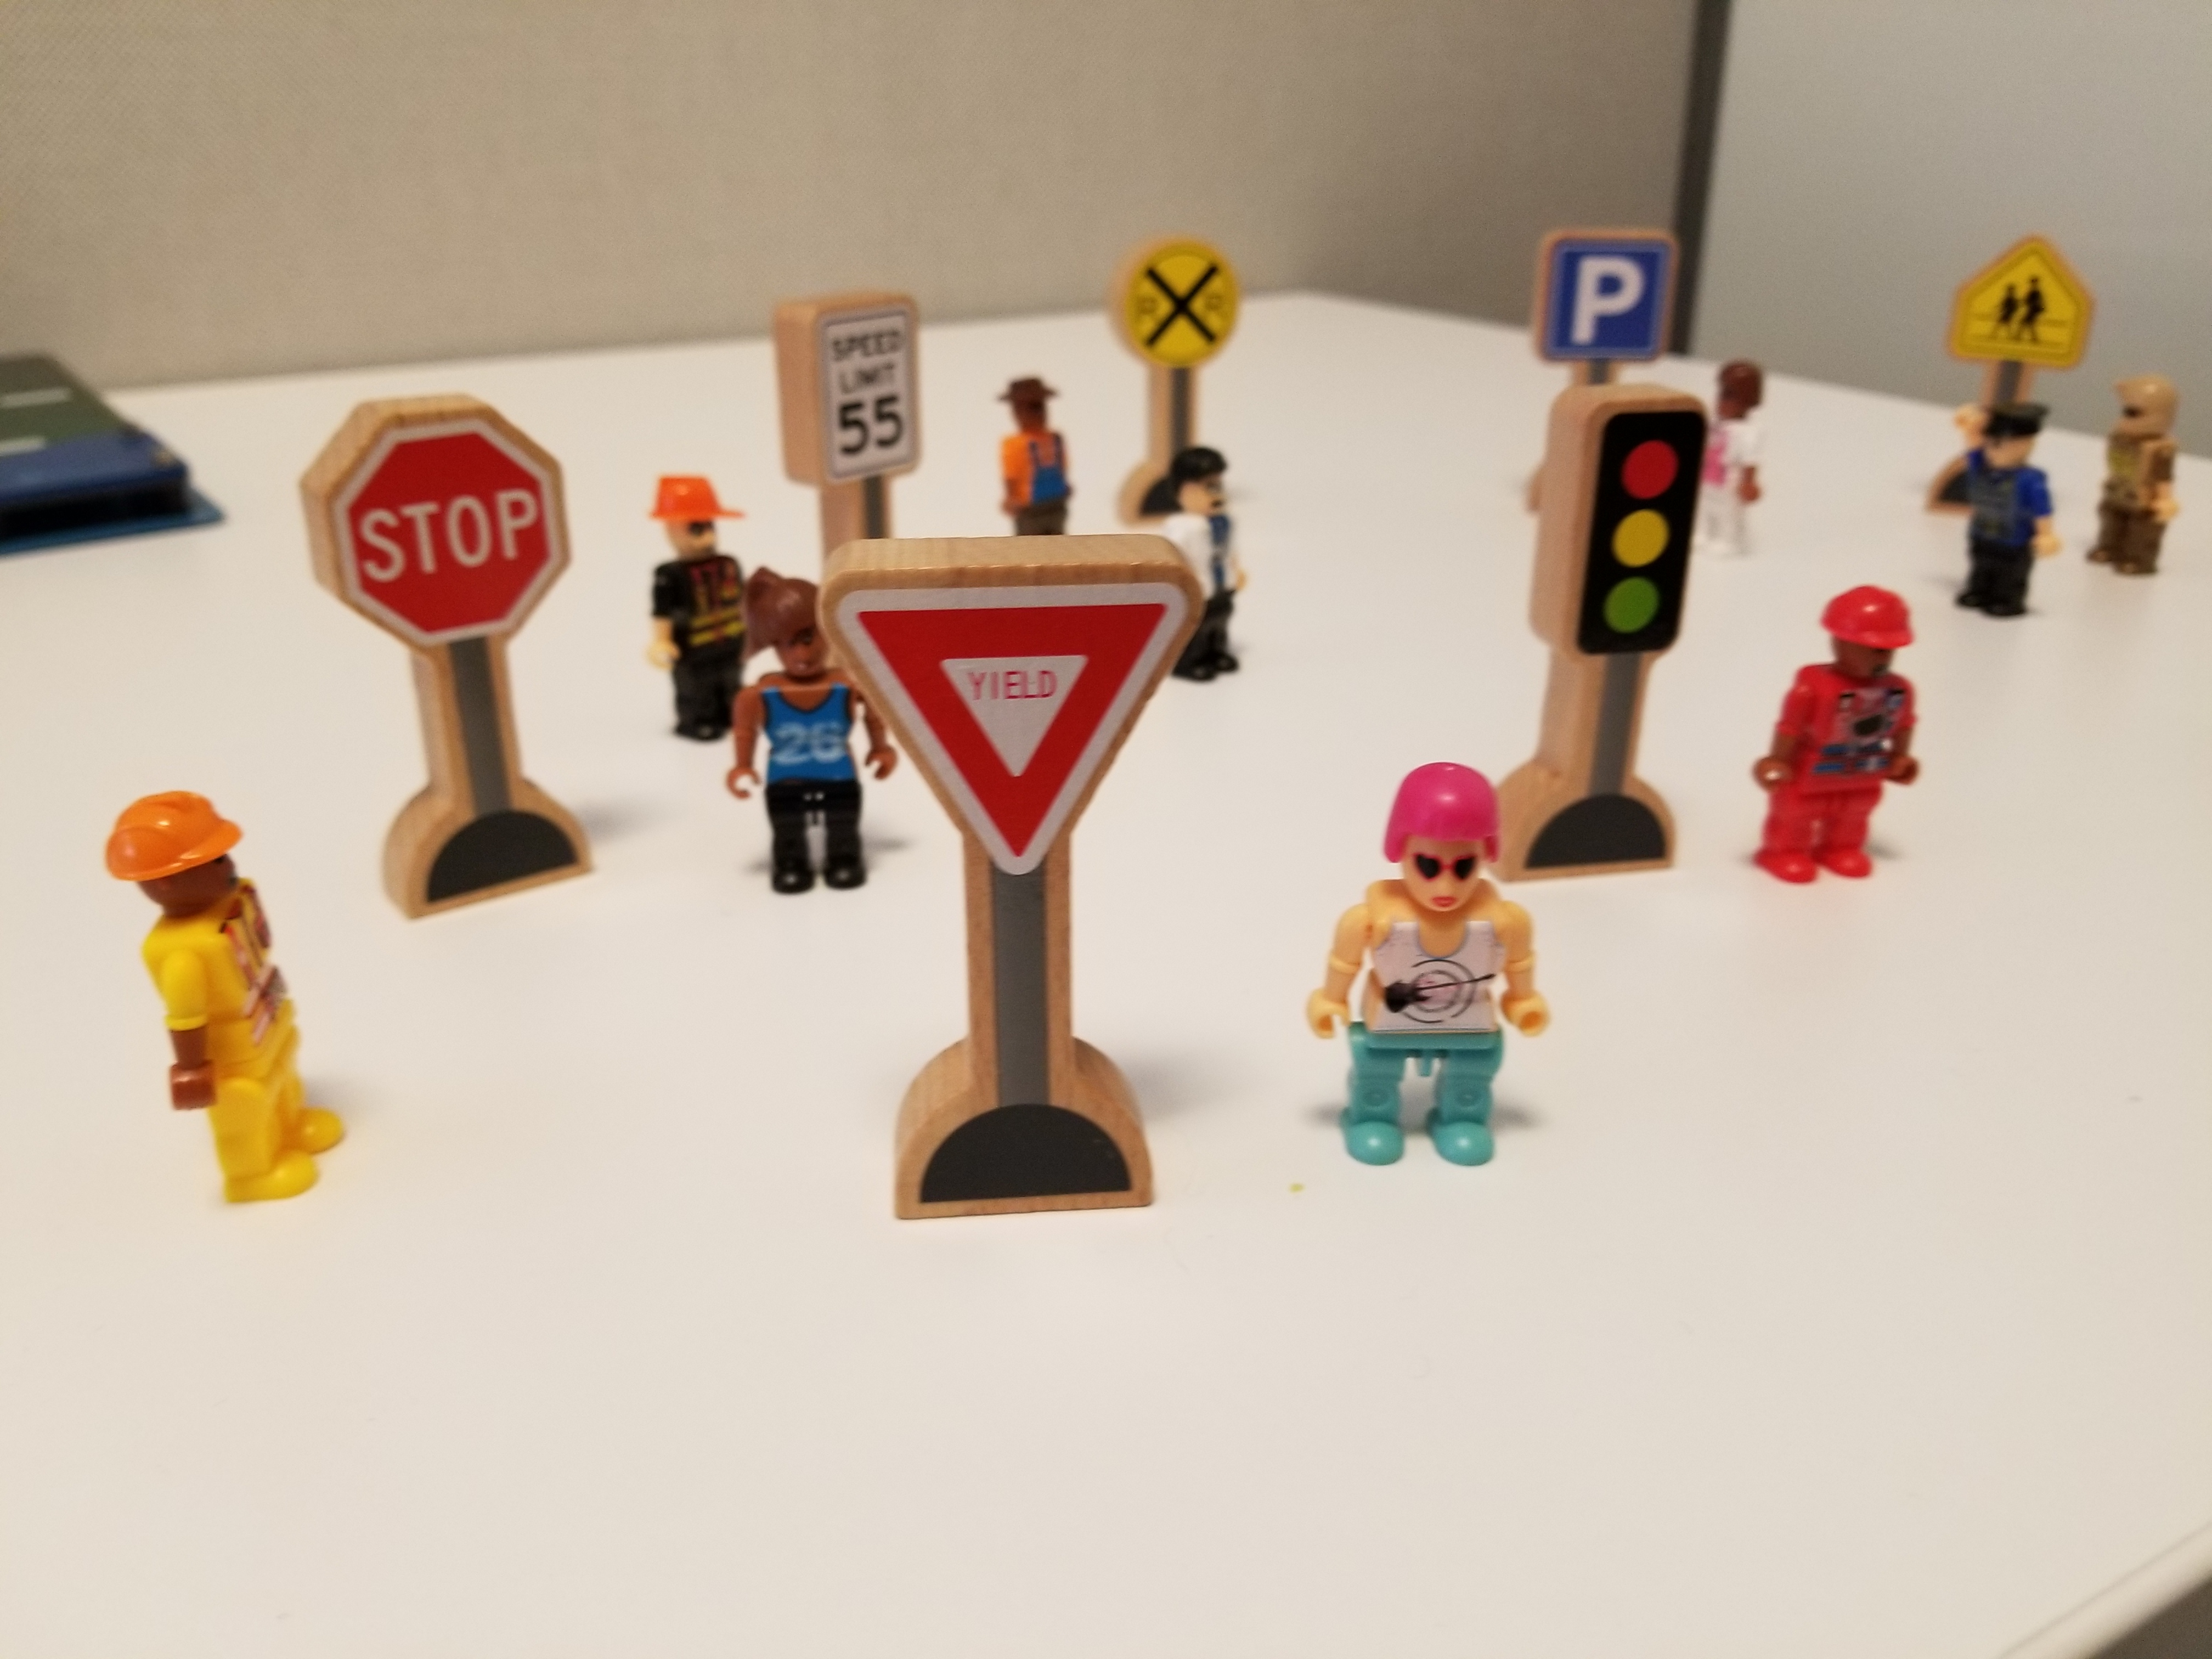Parking: (1528, 218, 1713, 370)
Pedestrian crossing: (1923, 201, 2103, 370)
Railroad Crossing: (1111, 212, 1269, 433)
Speed limit 55: (763, 282, 925, 488)
Stop: (300, 398, 589, 806)
Traffic Light: (1544, 363, 1706, 701)
Yield: (795, 501, 1226, 890)
person: (58, 778, 374, 1237), (1300, 734, 1561, 1195), (1743, 556, 1950, 916), (706, 569, 881, 901), (629, 447, 745, 774), (1939, 398, 2075, 646), (1158, 425, 1263, 681), (2097, 363, 2196, 598), (973, 365, 1083, 539), (1704, 357, 1783, 572)
